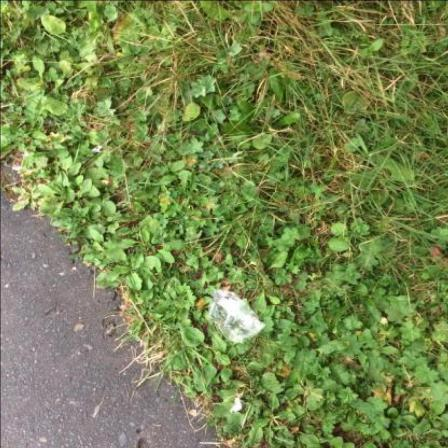Plastic bag - wrapper: (210, 289, 268, 344)
